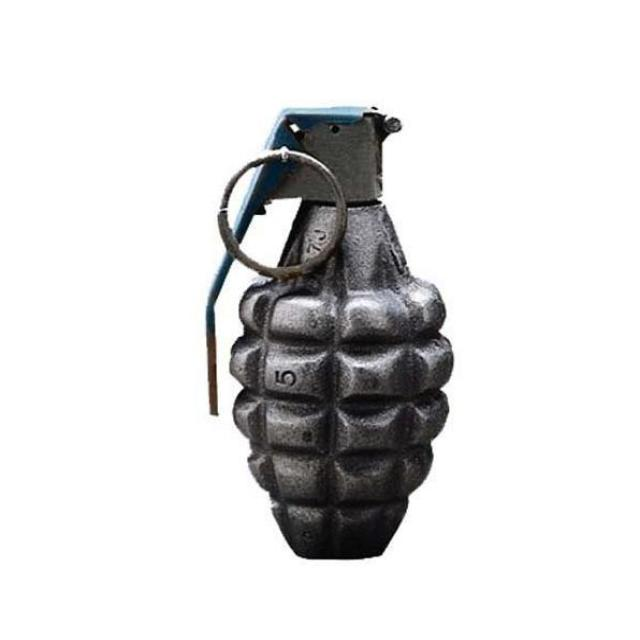grenade: (206, 107, 455, 563)
